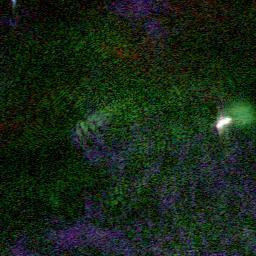Ship: (212, 114, 232, 130)
